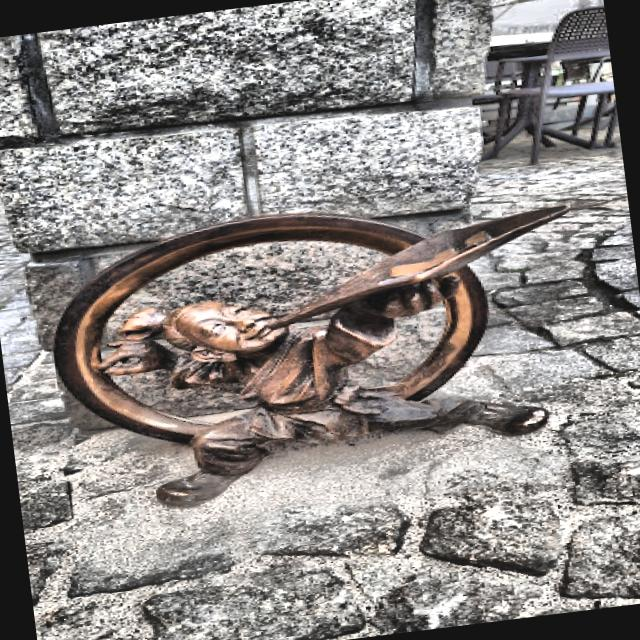TianTian: (58, 206, 568, 504)
